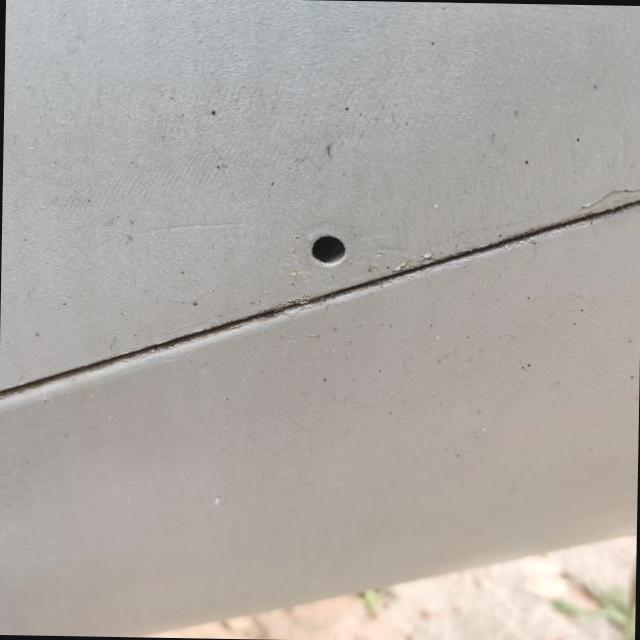Missing Fastener: (308, 232, 346, 266)
